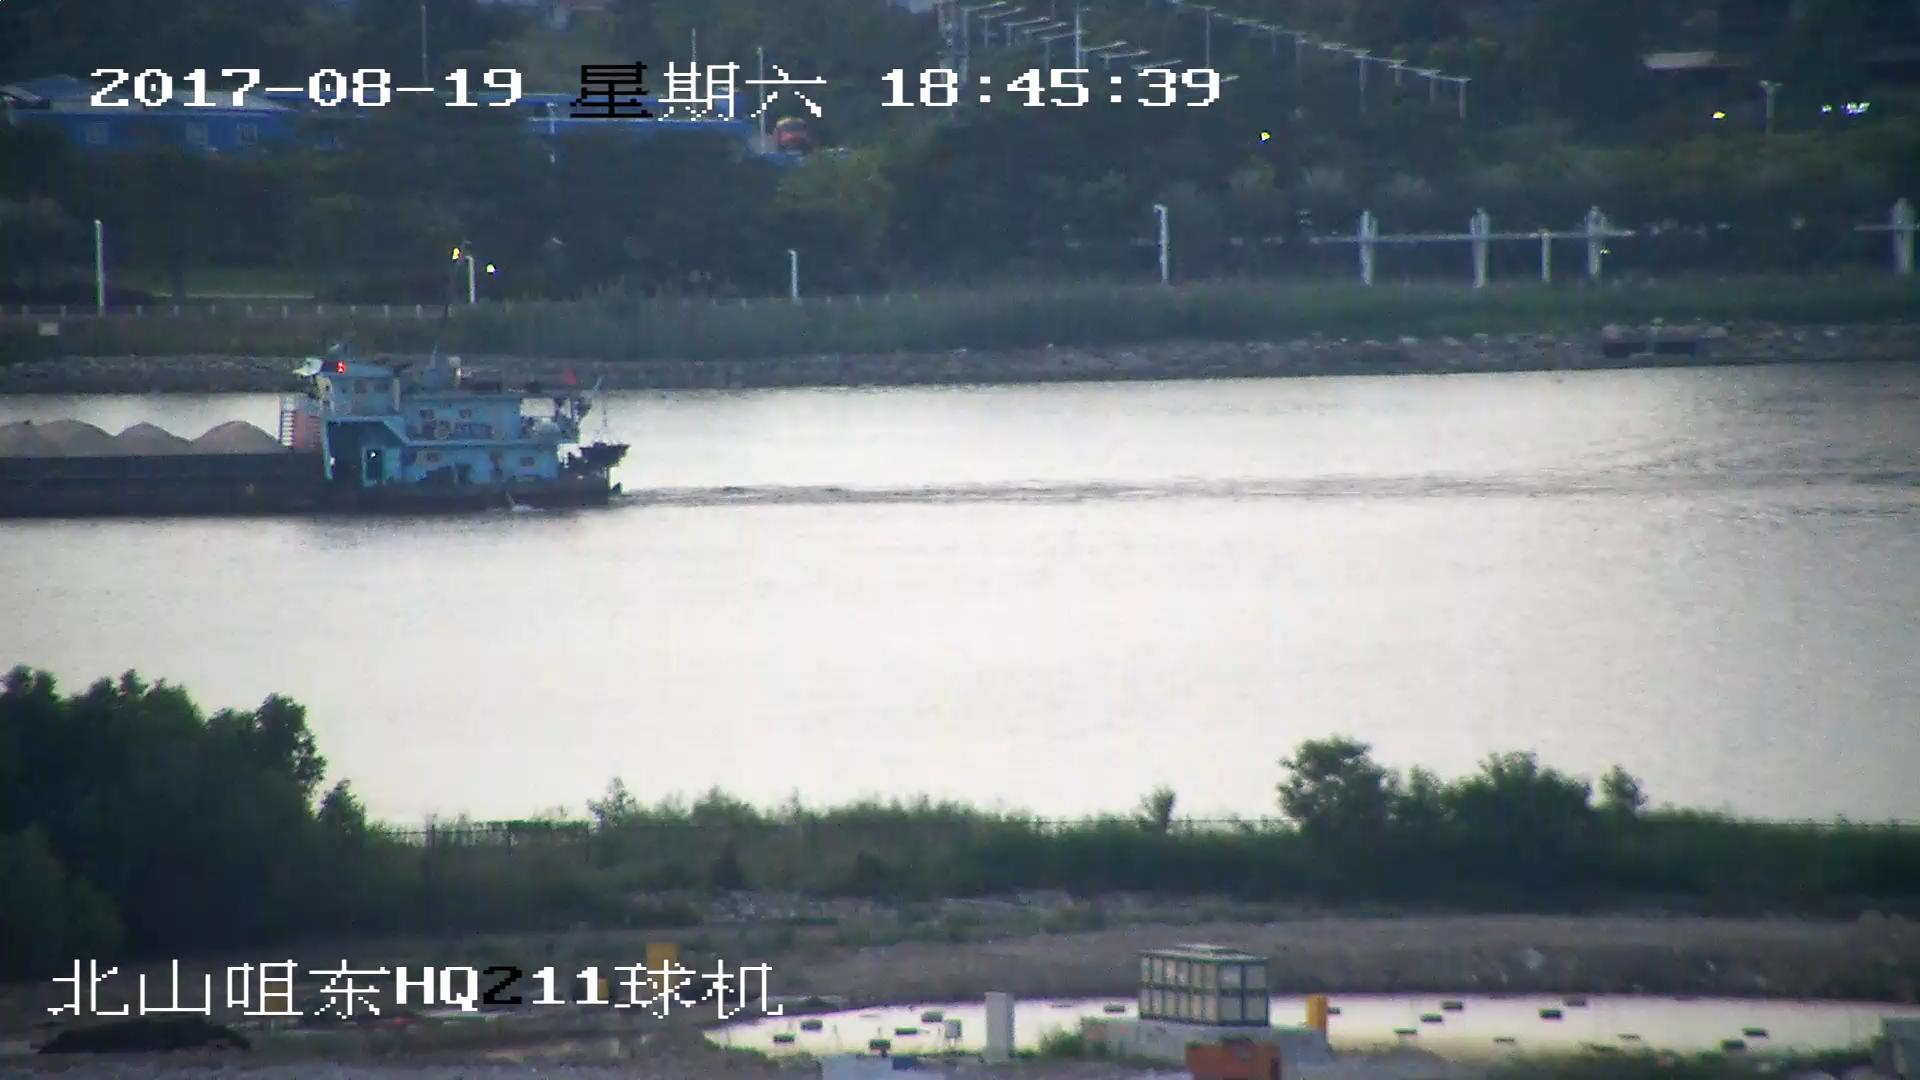Ship: (3, 334, 626, 516)
